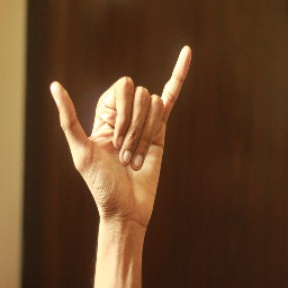J: (50, 32, 195, 207)
